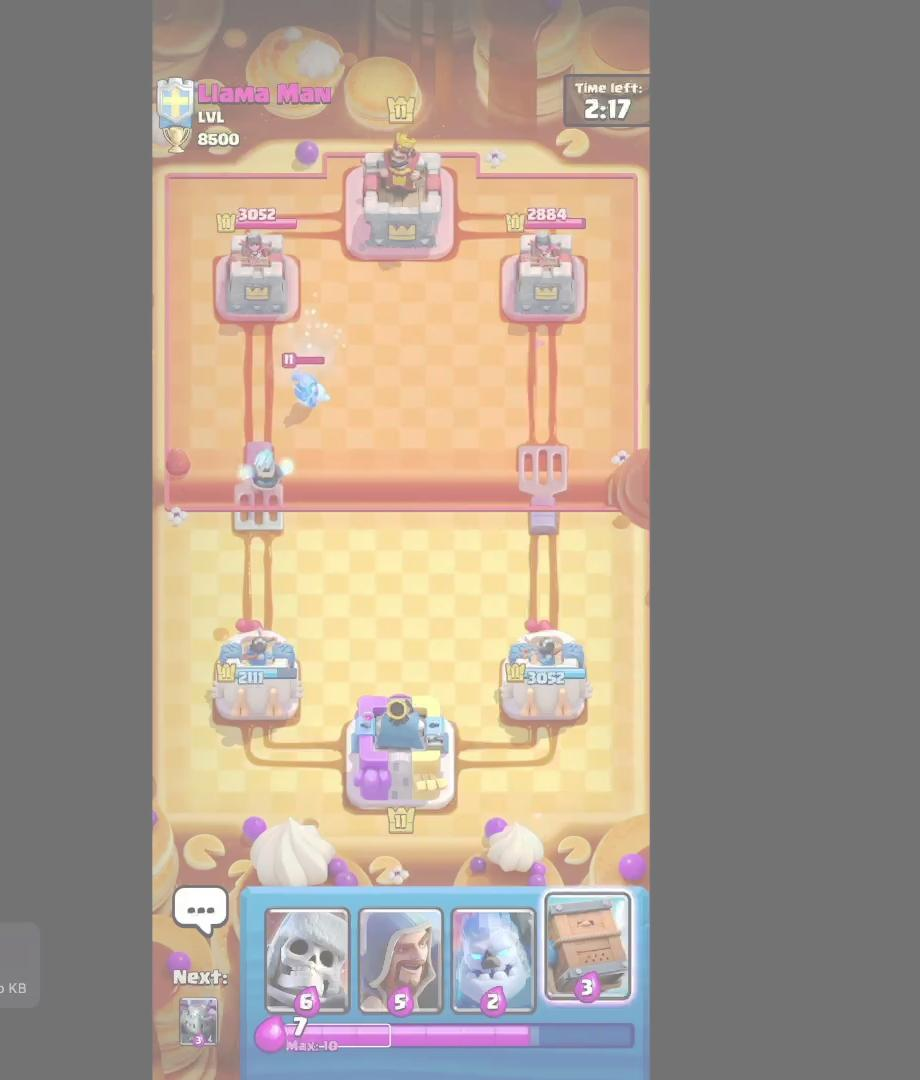Mini Pekka: (280, 350, 334, 410)
